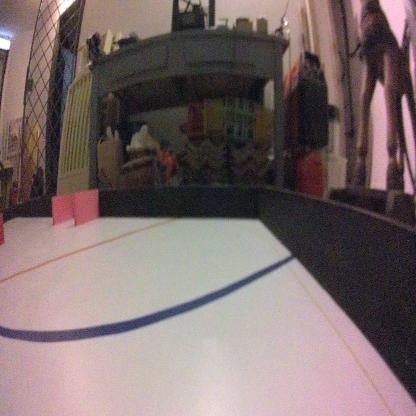magenta: (73, 188, 99, 228), (50, 190, 77, 224)
